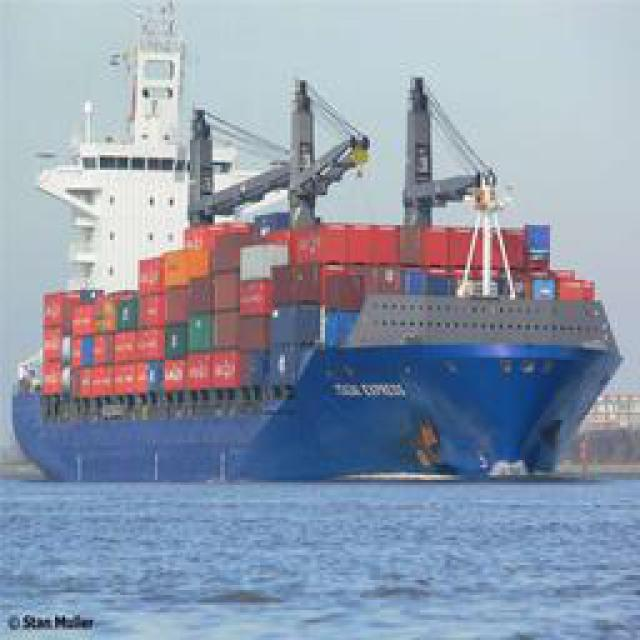Ship: (8, 23, 624, 498)
